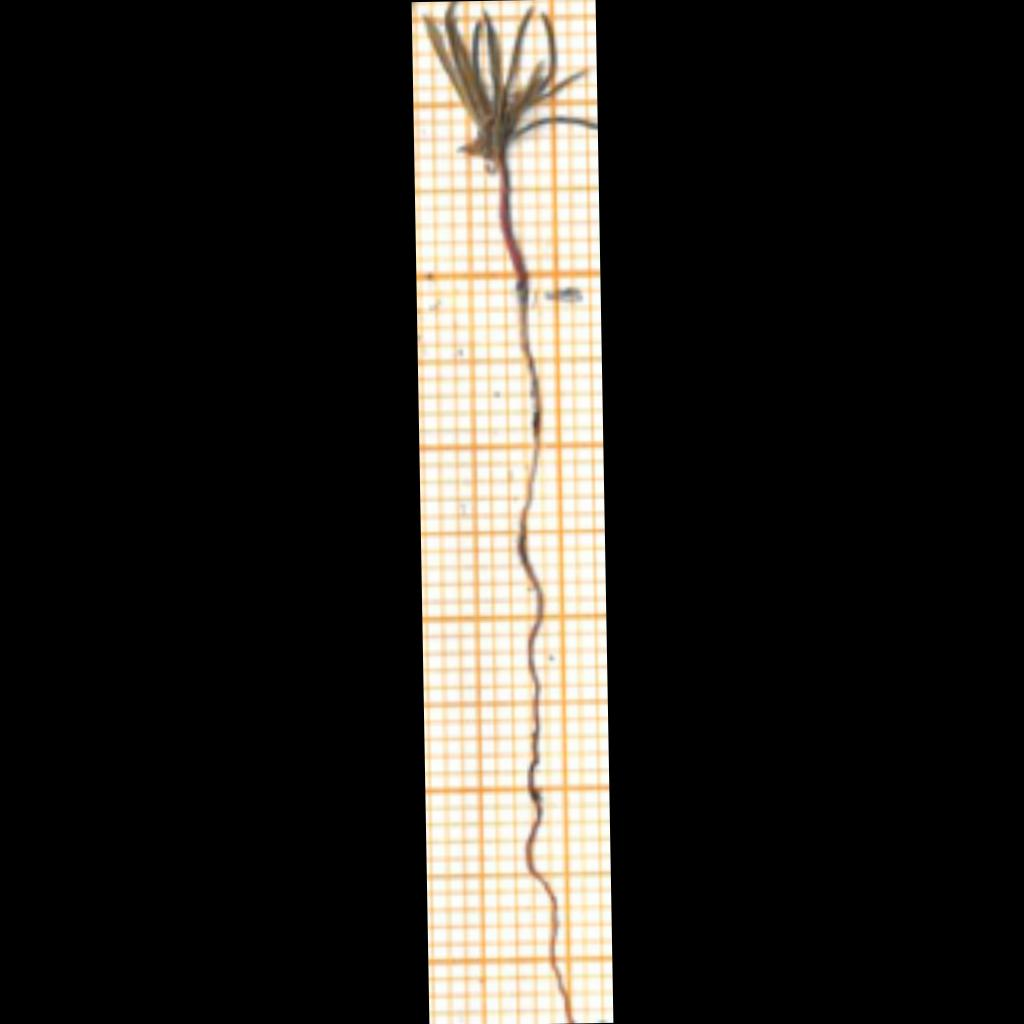flowerPinus: (425, 1, 597, 167)
rootPinus: (517, 291, 573, 1023)
stemPinus: (499, 159, 528, 293)
